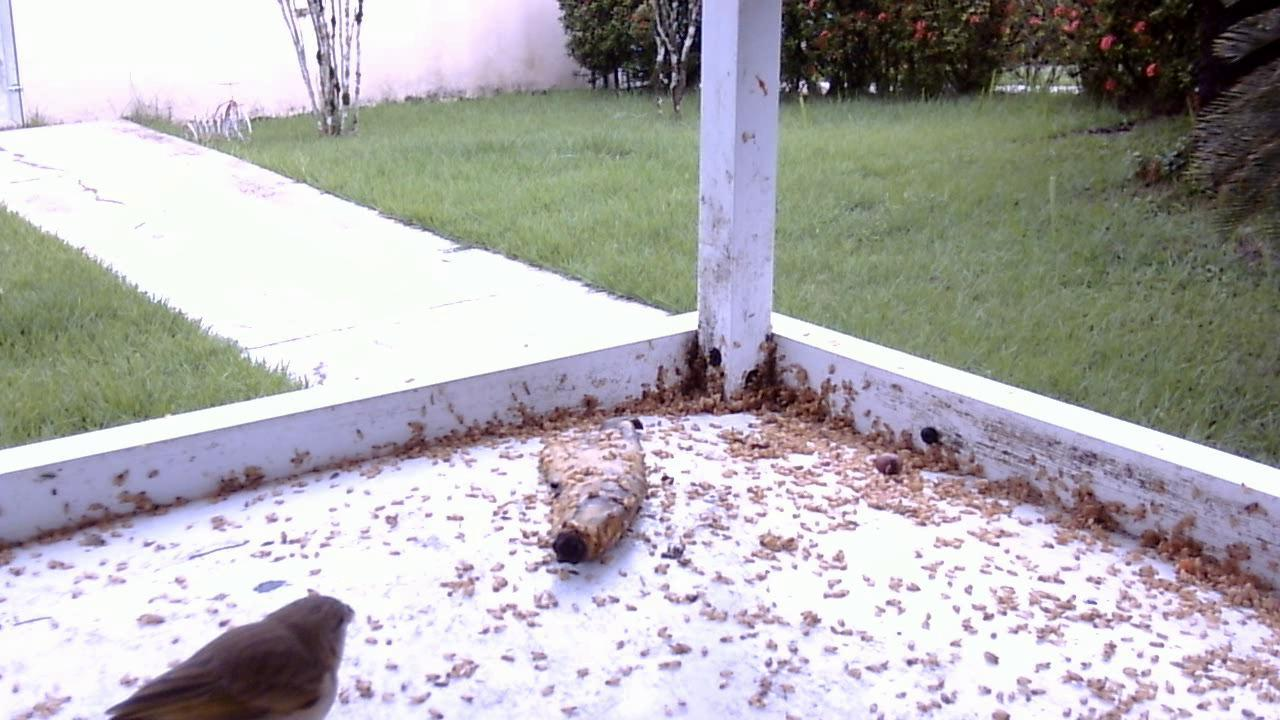canario_do_amazonas: (99, 581, 357, 715)
